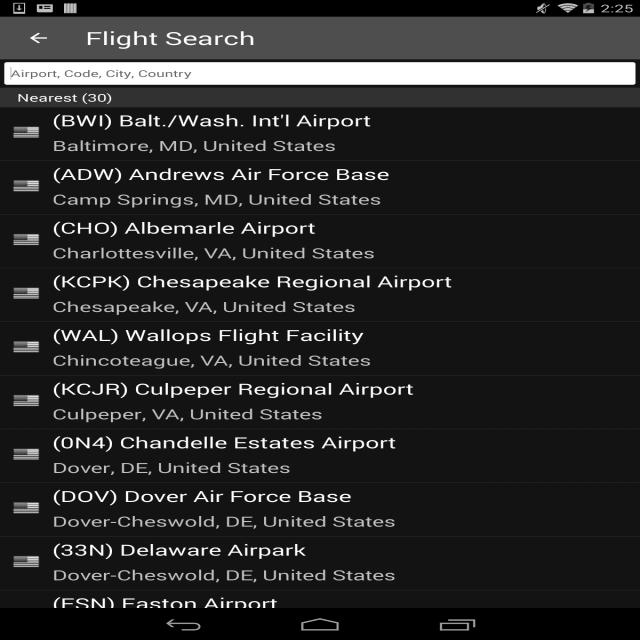Button: (37, 428, 603, 452)
EditText: (11, 62, 594, 85)
ImageButton: (9, 17, 68, 59), (37, 318, 80, 345)
ImageView: (0, 59, 640, 242), (264, 108, 376, 179), (13, 107, 39, 158), (13, 268, 39, 319), (13, 429, 39, 480), (13, 161, 39, 211), (13, 215, 39, 265), (13, 322, 39, 372), (13, 376, 39, 426), (13, 483, 39, 533), (13, 537, 39, 587), (13, 590, 39, 640)
TextView: (52, 108, 640, 134), (52, 161, 640, 187), (52, 214, 640, 240), (52, 268, 640, 294), (52, 322, 640, 348), (52, 376, 640, 402), (52, 430, 640, 456), (52, 483, 640, 509), (52, 536, 640, 562), (52, 590, 640, 616), (0, 88, 640, 107), (52, 509, 396, 533), (52, 563, 396, 587), (52, 187, 382, 211), (80, 390, 603, 405), (52, 241, 376, 265), (52, 348, 372, 372), (52, 294, 356, 319), (80, 308, 603, 322), (80, 349, 603, 363), (52, 133, 336, 158), (52, 402, 323, 426), (52, 455, 291, 480), (85, 26, 261, 50), (222, 241, 308, 254), (340, 241, 410, 254)
